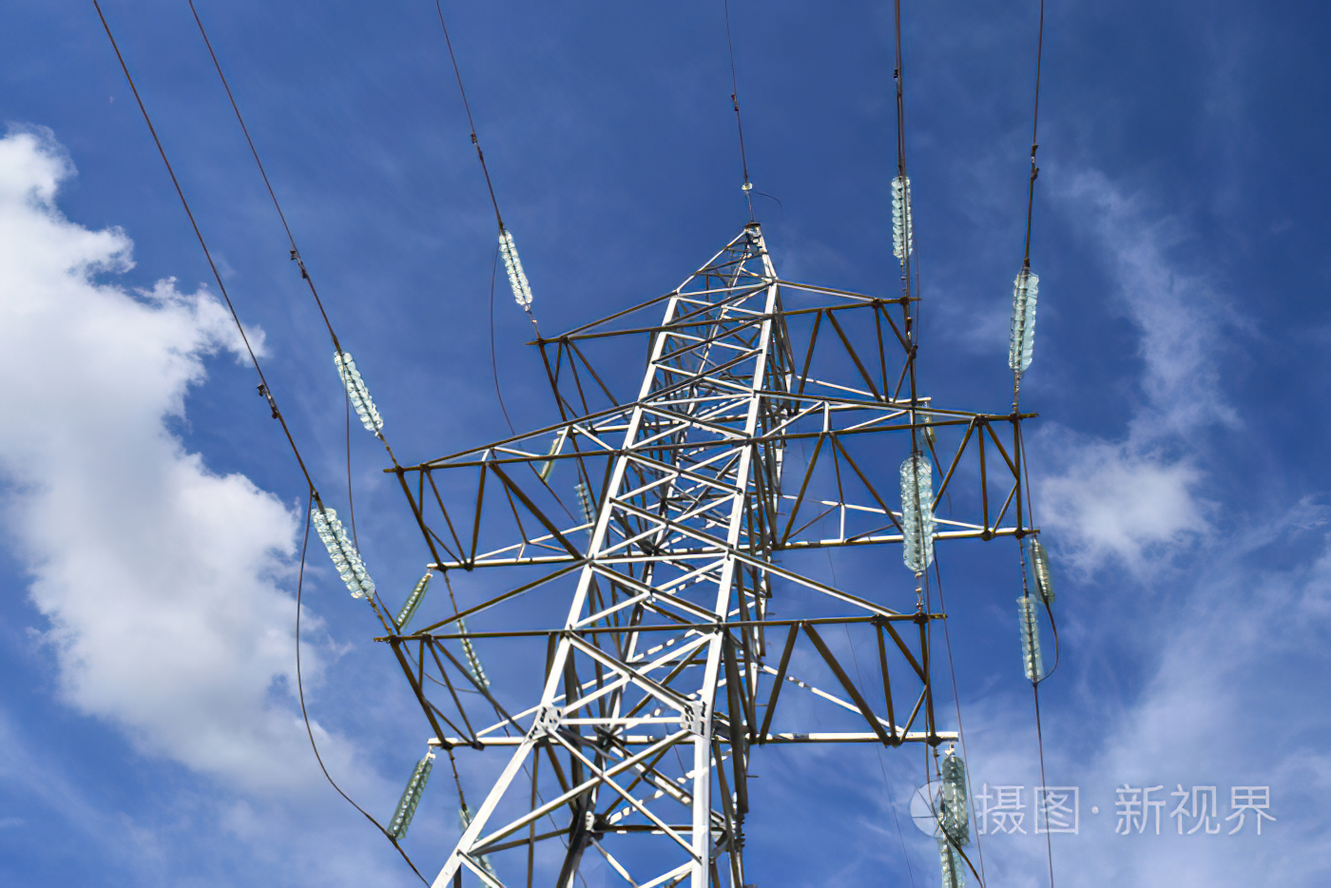insulator: (313, 506, 374, 602), (897, 452, 938, 574), (331, 350, 383, 434), (388, 750, 434, 843), (936, 754, 967, 888), (1007, 271, 1041, 368), (496, 230, 535, 309), (453, 617, 489, 693), (1018, 592, 1048, 682), (888, 173, 916, 261), (394, 570, 435, 630), (1030, 539, 1058, 598), (576, 477, 601, 527)
